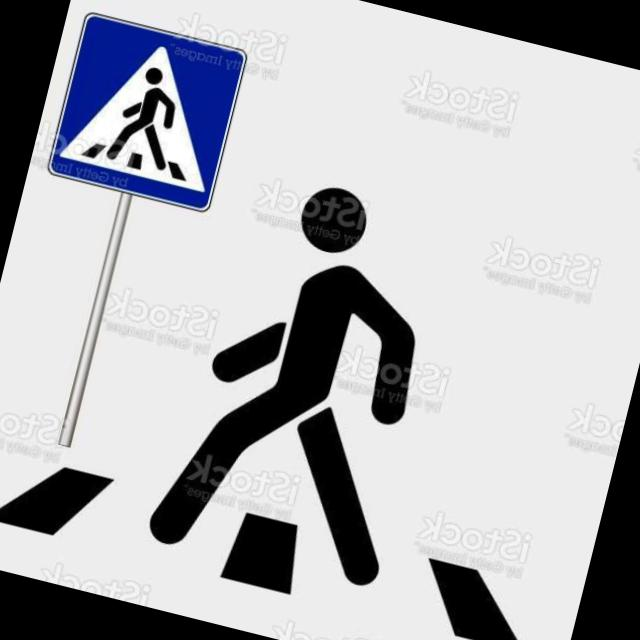crosswalk-sign: (46, 11, 251, 216)
